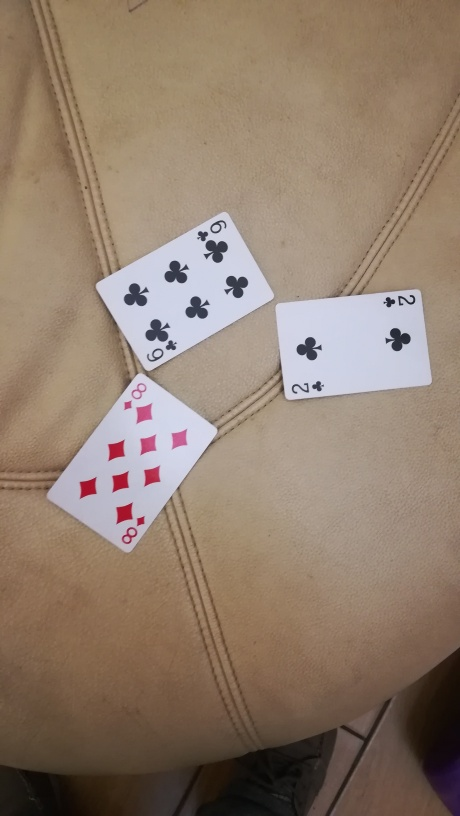fk 8: (42, 363, 219, 554)
mh 2: (274, 287, 444, 401)
mh 6: (89, 212, 274, 373)
